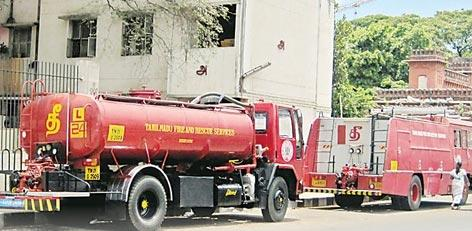Fire-engine: (18, 74, 307, 228), (309, 100, 472, 204)
